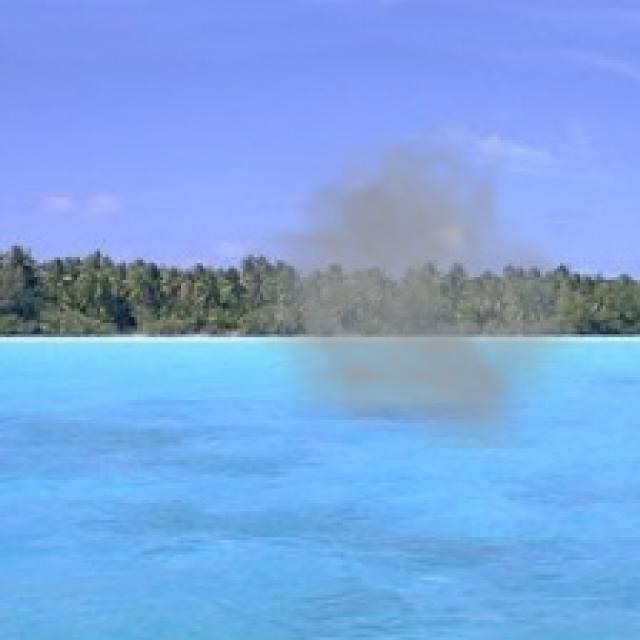smoke: (226, 103, 597, 448)
